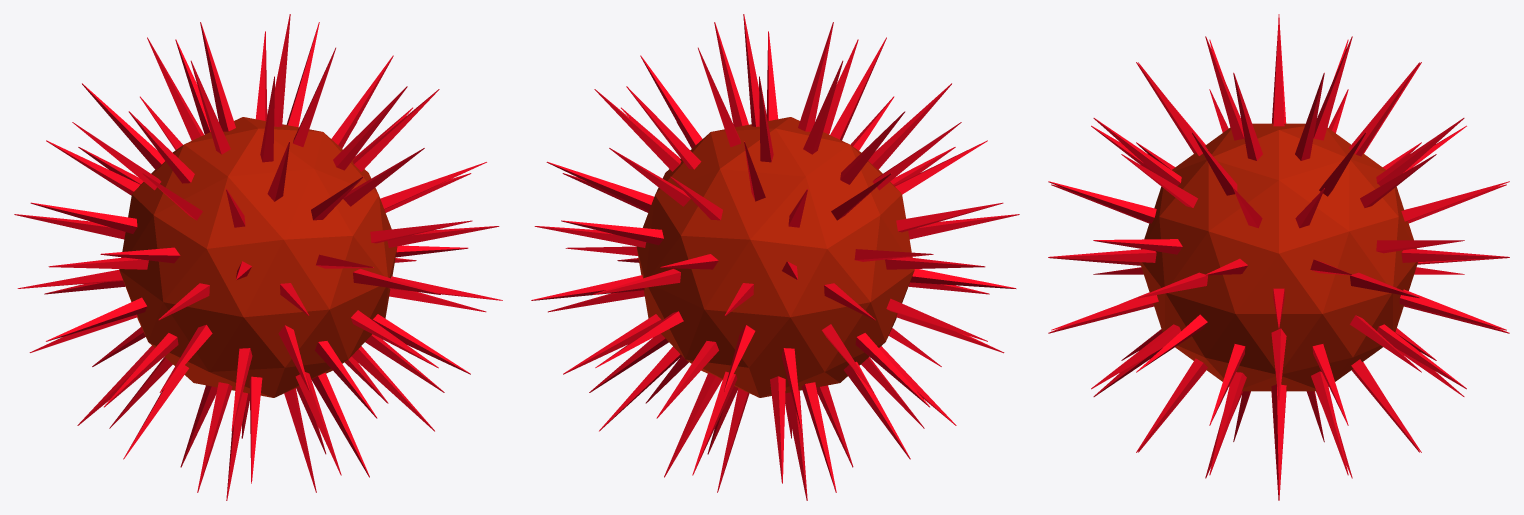
File: diken.fbx
The picture shows the model from 3 angles, left to right: view 1: azimuth 30°, elevation 25°; view 2: azimuth 150°, elevation 25°; view 3: azimuth 270°, elevation 25°; orthographic projection.
Parts seen in each view (by area): view 1: Icosphere, Icosphere|Cube|Dupli|78, Icosphere|Cube|Dupli|23, Icosphere|Cube|Dupli|25, Icosphere|Cube|Dupli|41, Icosphere|Cube|Dupli|33, Icosphere|Cube|Dupli|72, Icosphere|Cube|Dupli|79, Icosphere|Cube|Dupli|12, Icosphere|Cube|Dupli|24, Icosphere|Cube|Dupli|34, Icosphere|Cube|Dupli|7 (+40 smaller); view 2: Icosphere, Icosphere|Cube|Dupli|66, Icosphere|Cube|Dupli|35, Icosphere|Cube|Dupli|29, Icosphere|Cube|Dupli|16, Icosphere|Cube|Dupli|68, Icosphere|Cube|Dupli|69, Icosphere|Cube|Dupli|37, Icosphere|Cube|Dupli|33, Icosphere|Cube|Dupli|19, Icosphere|Cube|Dupli|70, Icosphere|Cube|Dupli|55 (+39 smaller); view 3: Icosphere, Icosphere|Cube|Dupli|46, Icosphere|Cube|Dupli|79, Icosphere|Cube|Dupli|75, Icosphere|Cube|Dupli|51, Icosphere|Cube|Dupli|24, Icosphere|Cube|Dupli|1, Icosphere|Cube|Dupli|50, Icosphere|Cube|Dupli|59, Icosphere|Cube|Dupli|74, Icosphere|Cube|Dupli|23, Icosphere|Cube|Dupli|29 (+24 smaller).
Boxes of the visible parts, x1,y1,x2,y2 form: Icosphere: (119,117,397,397); Icosphere|Cube|Dupli|78: (311,372,369,477); Icosphere|Cube|Dupli|23: (200,22,235,131); Icosphere|Cube|Dupli|25: (82,83,164,169); Icosphere|Cube|Dupli|41: (30,202,137,233); Icosphere|Cube|Dupli|33: (333,86,407,170); Icosphere|Cube|Dupli|72: (197,382,232,492); Icosphere|Cube|Dupli|79: (351,346,434,431); Icosphere|Cube|Dupli|12: (46,297,147,341); Icosphere|Cube|Dupli|24: (147,37,203,140); Icosphere|Cube|Dupli|34: (352,89,439,171); Icosphere|Cube|Dupli|7: (104,333,178,407); Icosphere: (636,117,914,397); Icosphere|Cube|Dupli|66: (664,372,722,477); Icosphere|Cube|Dupli|35: (546,161,653,211); Icosphere|Cube|Dupli|29: (798,22,833,131); Icosphere|Cube|Dupli|16: (868,83,951,169); Icosphere|Cube|Dupli|68: (770,376,785,483); Icosphere|Cube|Dupli|69: (801,382,836,492); Icosphere|Cube|Dupli|37: (561,220,663,245); Icosphere|Cube|Dupli|33: (714,22,748,127); Icosphere|Cube|Dupli|19: (594,89,681,171); Icosphere|Cube|Dupli|70: (844,361,910,459); Icosphere|Cube|Dupli|55: (855,333,929,407); Icosphere: (1140,123,1417,391); Icosphere|Cube|Dupli|46: (1048,181,1156,223); Icosphere|Cube|Dupli|79: (1136,358,1207,452); Icosphere|Cube|Dupli|75: (1271,384,1286,495); Icosphere|Cube|Dupli|51: (1399,289,1506,330); Icosphere|Cube|Dupli|24: (1349,62,1419,156); Icosphere|Cube|Dupli|1: (1209,372,1246,475); Icosphere|Cube|Dupli|50: (1401,249,1509,262); Icosphere|Cube|Dupli|59: (1048,249,1156,262); Icosphere|Cube|Dupli|74: (1311,371,1348,475); Icosphere|Cube|Dupli|23: (1313,36,1352,140); Icosphere|Cube|Dupli|29: (1205,36,1244,140).
Size of the model in its own units: 16856 by 16173 by 16038.
